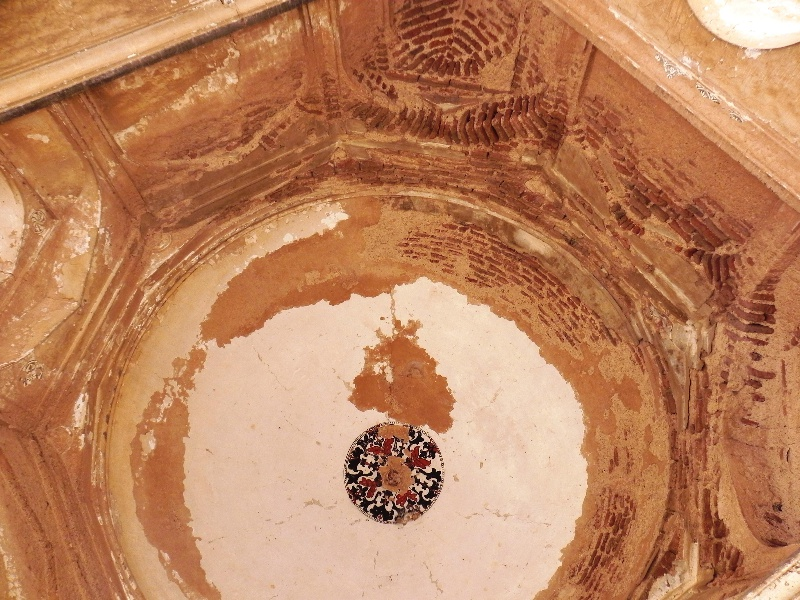Exposed Bricks: (580, 98, 774, 383), (341, 1, 560, 212), (420, 221, 577, 311), (581, 486, 645, 583)
Spalling: (206, 230, 348, 347), (346, 355, 454, 417)
